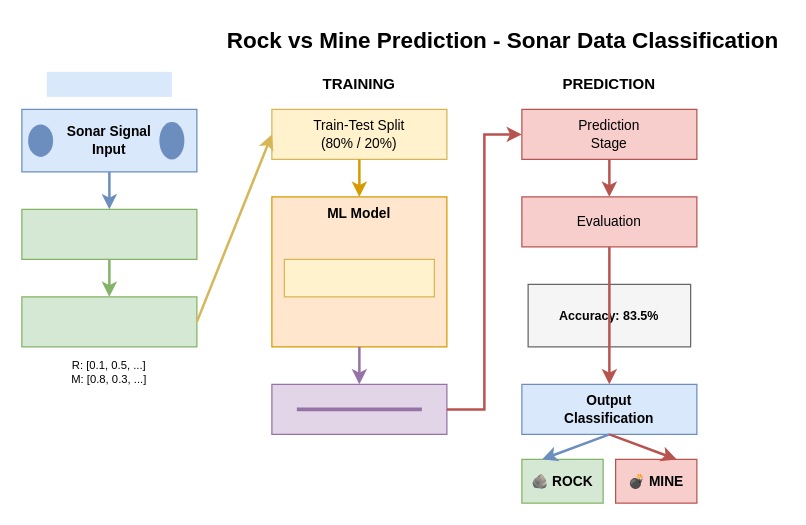
The diagram is 806 pixels wide and 525 high, and some of its shapes have lost their labels. The centre of each missing label's shape, as x and y in pixels:
Decision Boundary Formation: point 359,408
Feature Extraction: point 109,233
INPUT: point 108,83
Labeled Dataset (R=Rock, M=Mine): point 109,321
Logistic Regression: point 358,277
